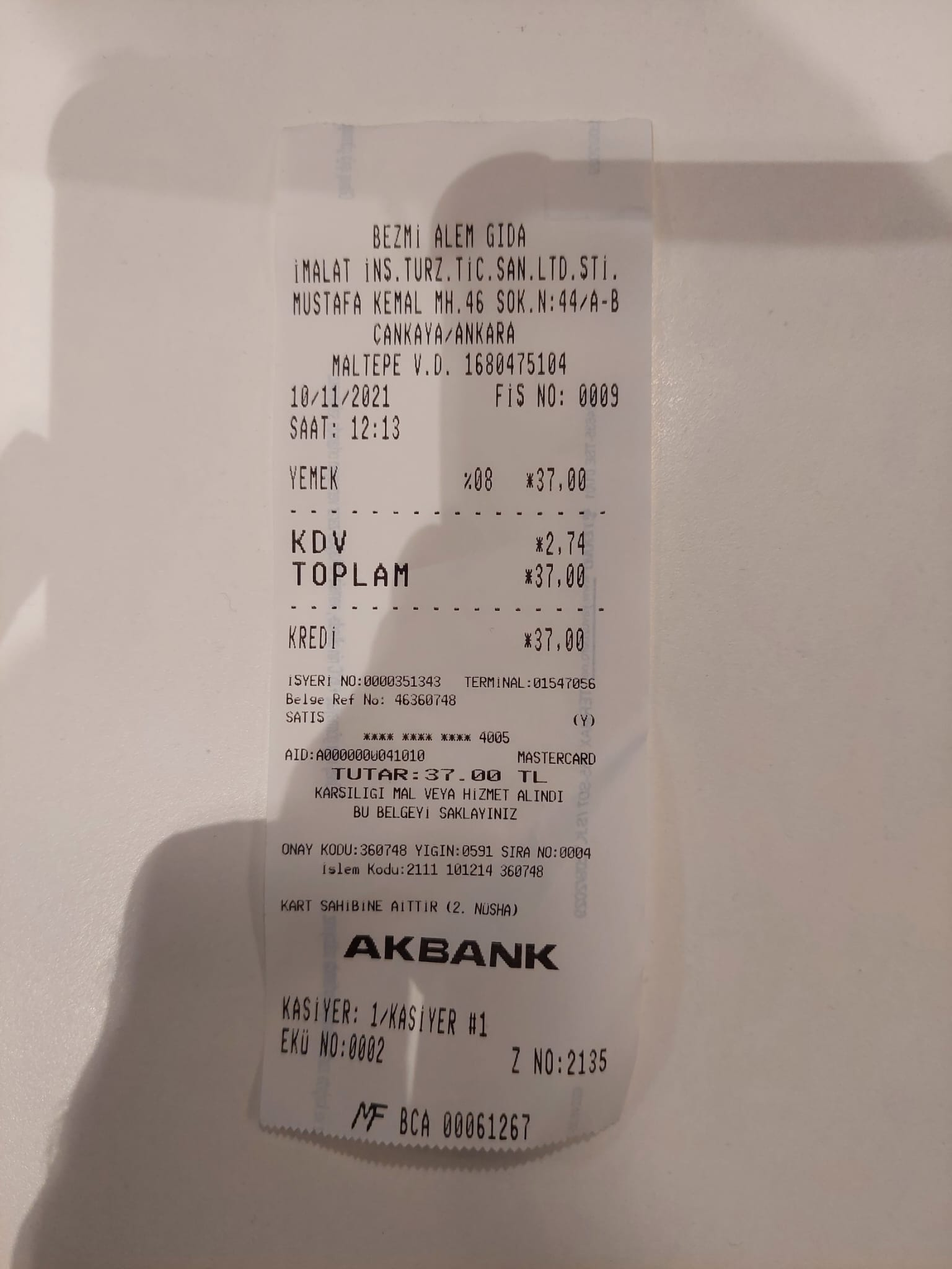date: (530, 559, 602, 598)
price: (286, 375, 394, 413)
workplace: (283, 211, 632, 348)
